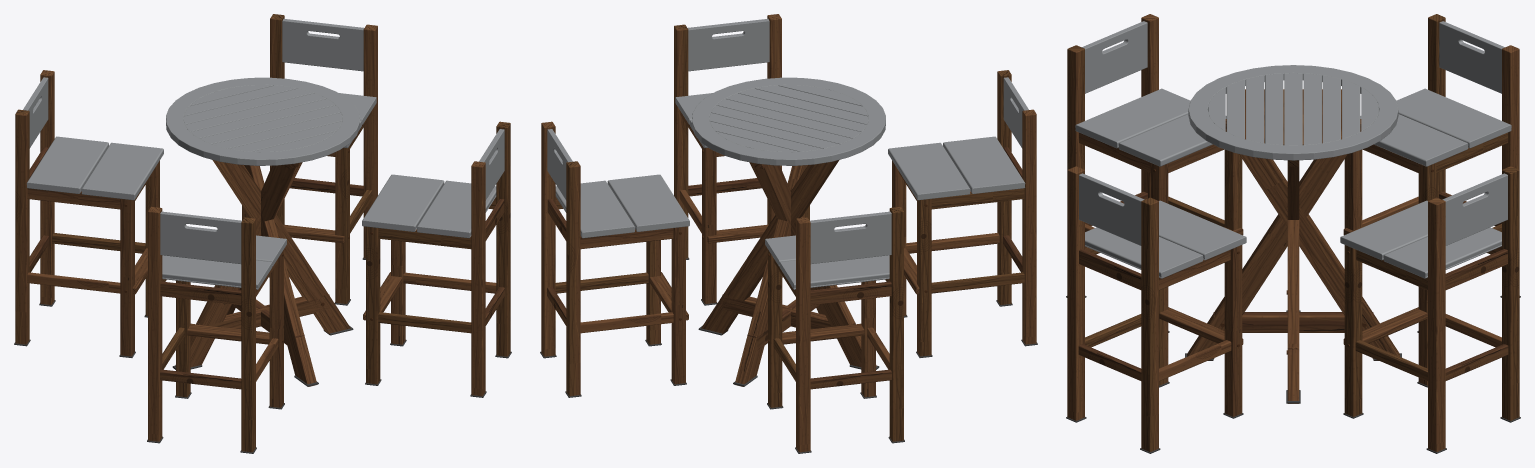
File: Ban_tron_ghe_cao.glb
3 views of the same model, side by side, from view 1: azimuth 30°, elevation 25°; view 2: azimuth 150°, elevation 25°; view 3: azimuth 270°, elevation 25° (orthographic). The views are drawn at different scales.
Parts seen in each view (by area): view 1: Go_oak (×5), Nhua_HDPE_xam (×5); view 2: Go_oak (×5), Nhua_HDPE_xam (×5); view 3: Go_oak (×5), Nhua_HDPE_xam (×5).
Boxes of the visible parts, x1=… form: Go_oak (×5): x1=15, y1=14, x2=510, y2=452; Nhua_HDPE_xam (×5): x1=23, y1=19, x2=504, y2=289; Go_oak (×5): x1=541, y1=14, x2=1036, y2=452; Nhua_HDPE_xam (×5): x1=547, y1=19, x2=1028, y2=289; Go_oak (×5): x1=1067, y1=14, x2=1519, y2=451; Nhua_HDPE_xam (×5): x1=1075, y1=21, x2=1511, y2=278.
Size of the model in its own units: 1.74 by 1.05 by 1.74.
Materials: 4 (2 with a texture image).
